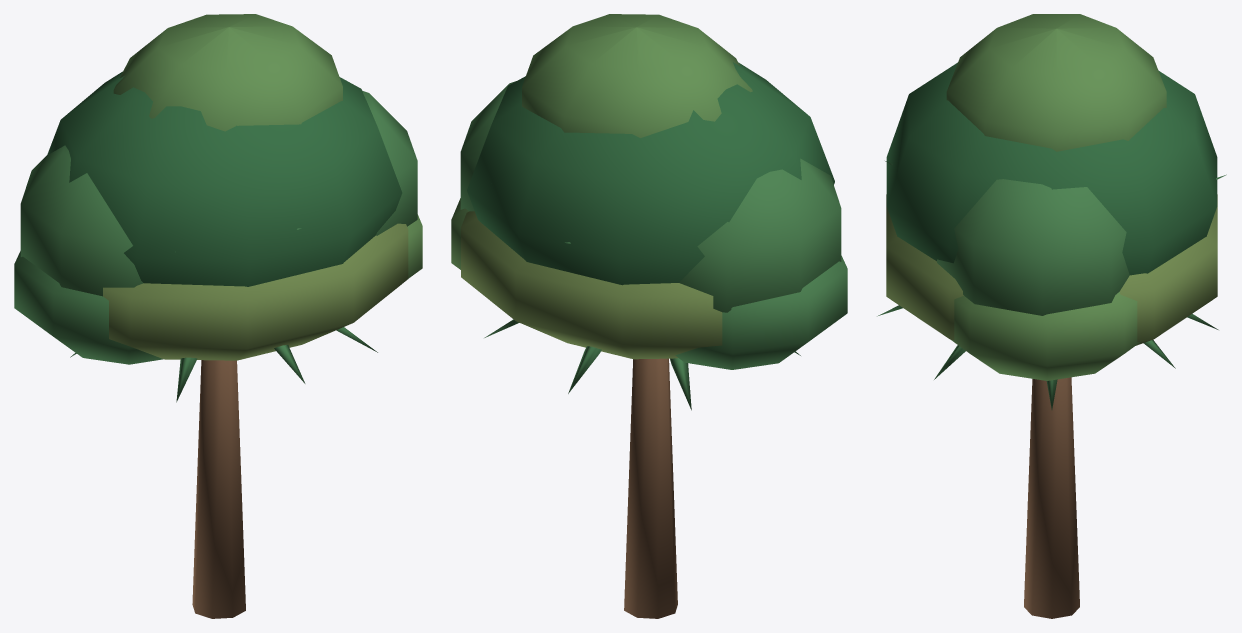
Rendered from cell_0_0_full.gltf.
3 renders of one model, left to right at view 1: azimuth 30°, elevation 25°; view 2: azimuth 150°, elevation 25°; view 3: azimuth 270°, elevation 25°, orthographic.
Parts seen in each view (by area): view 1: ASSET_EKITI_IROKO_BROAD_CROWN, ASSET_EKITI_LOCUST_BEAN_OPEN_CROWN, ASSET_EKITI_OIL_PALM; view 2: ASSET_EKITI_IROKO_BROAD_CROWN, ASSET_EKITI_LOCUST_BEAN_OPEN_CROWN, ASSET_EKITI_OIL_PALM; view 3: ASSET_EKITI_IROKO_BROAD_CROWN, ASSET_EKITI_LOCUST_BEAN_OPEN_CROWN, ASSET_EKITI_OIL_PALM.
Part boxes in pixels (x1=…): ASSET_EKITI_IROKO_BROAD_CROWN: x1=14, y1=14, x2=422, y2=618; ASSET_EKITI_LOCUST_BEAN_OPEN_CROWN: x1=103, y1=223, x2=408, y2=360; ASSET_EKITI_OIL_PALM: x1=70, y1=228, x2=377, y2=402; ASSET_EKITI_IROKO_BROAD_CROWN: x1=451, y1=14, x2=847, y2=618; ASSET_EKITI_LOCUST_BEAN_OPEN_CROWN: x1=461, y1=211, x2=722, y2=359; ASSET_EKITI_OIL_PALM: x1=484, y1=242, x2=800, y2=410; ASSET_EKITI_IROKO_BROAD_CROWN: x1=886, y1=14, x2=1217, y2=618; ASSET_EKITI_LOCUST_BEAN_OPEN_CROWN: x1=886, y1=194, x2=1217, y2=345; ASSET_EKITI_OIL_PALM: x1=877, y1=161, x2=1226, y2=409.
Bounding box in the file's own units: 4.59 × 6.87 × 3.74.
